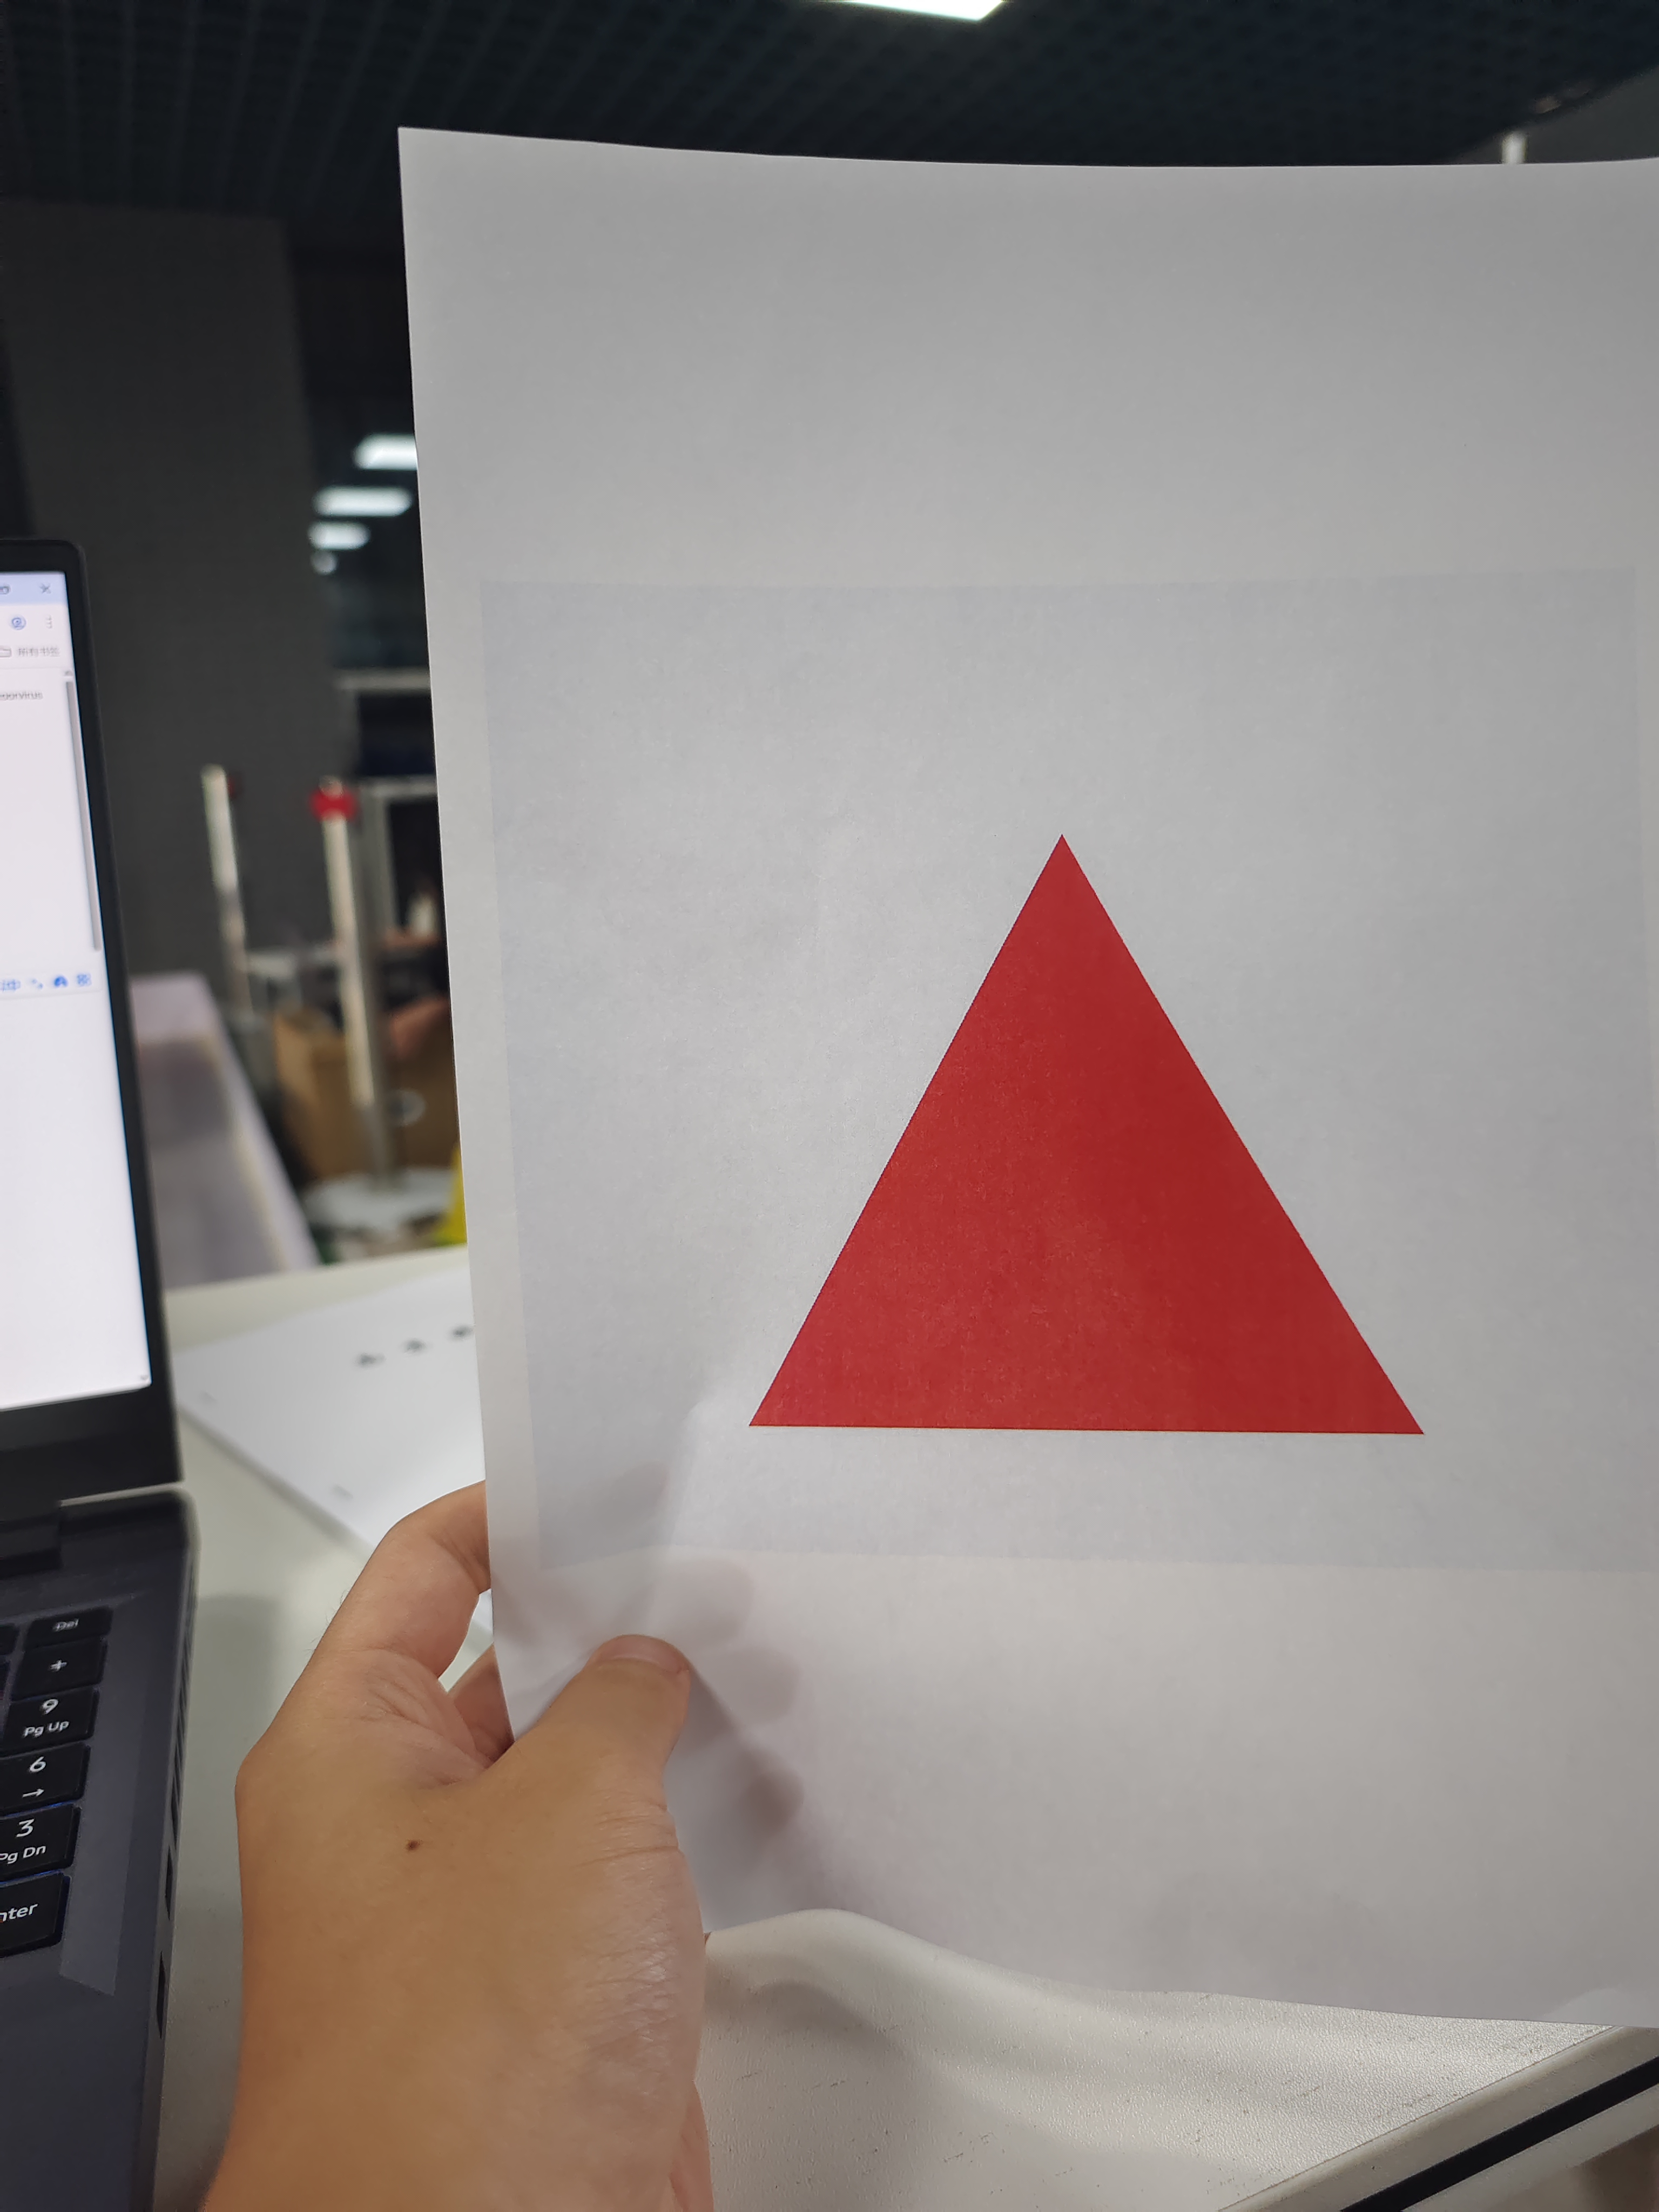sj: (746, 834, 1424, 1437)
